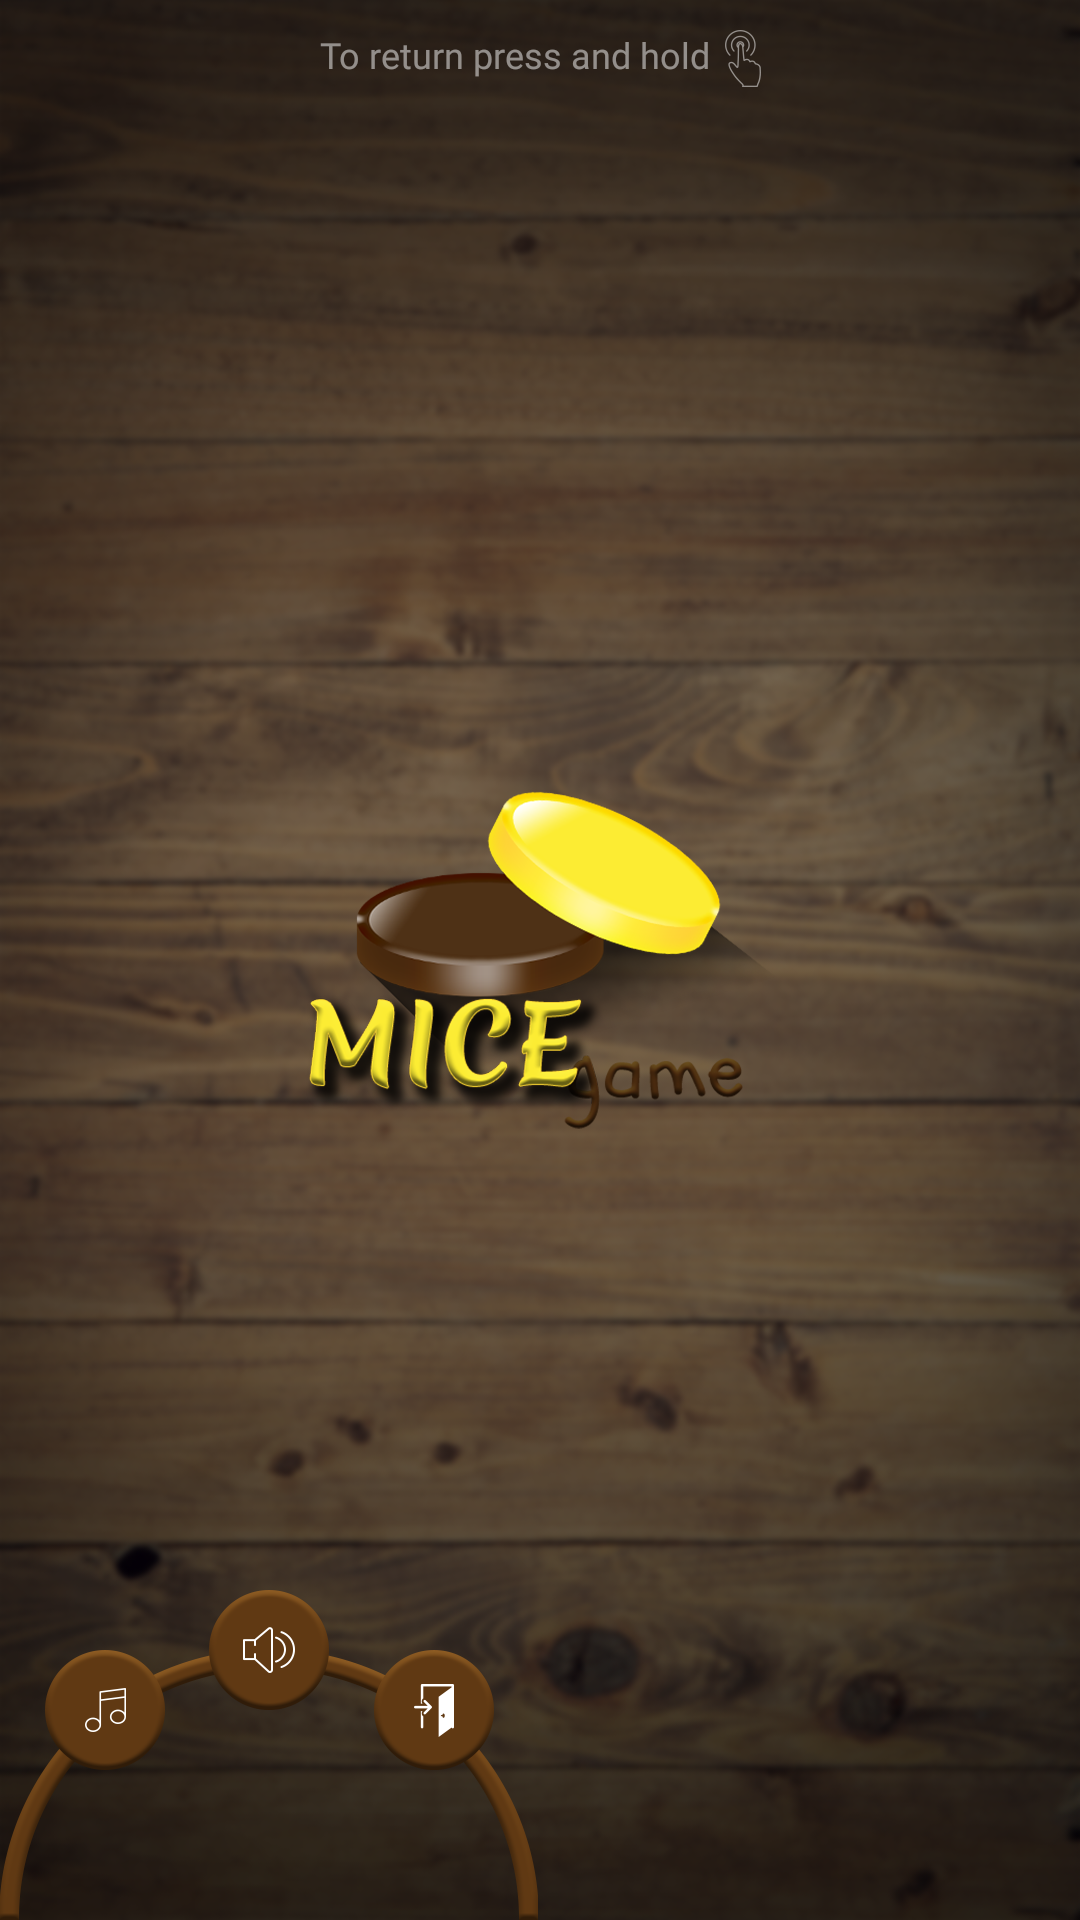

Icons on this 1080px x 1920px Android screen, each with its box as [x1,y1,x2,y2]:
exit: [374,1650,494,1770]
music: [45,1650,165,1770]
sound: [209,1590,329,1704]
touch: [725,30,761,87]
